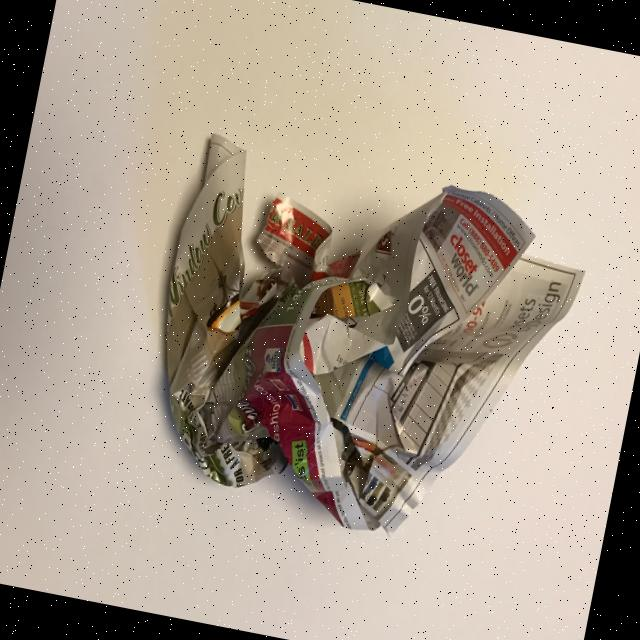paper: (130, 130, 598, 564)
